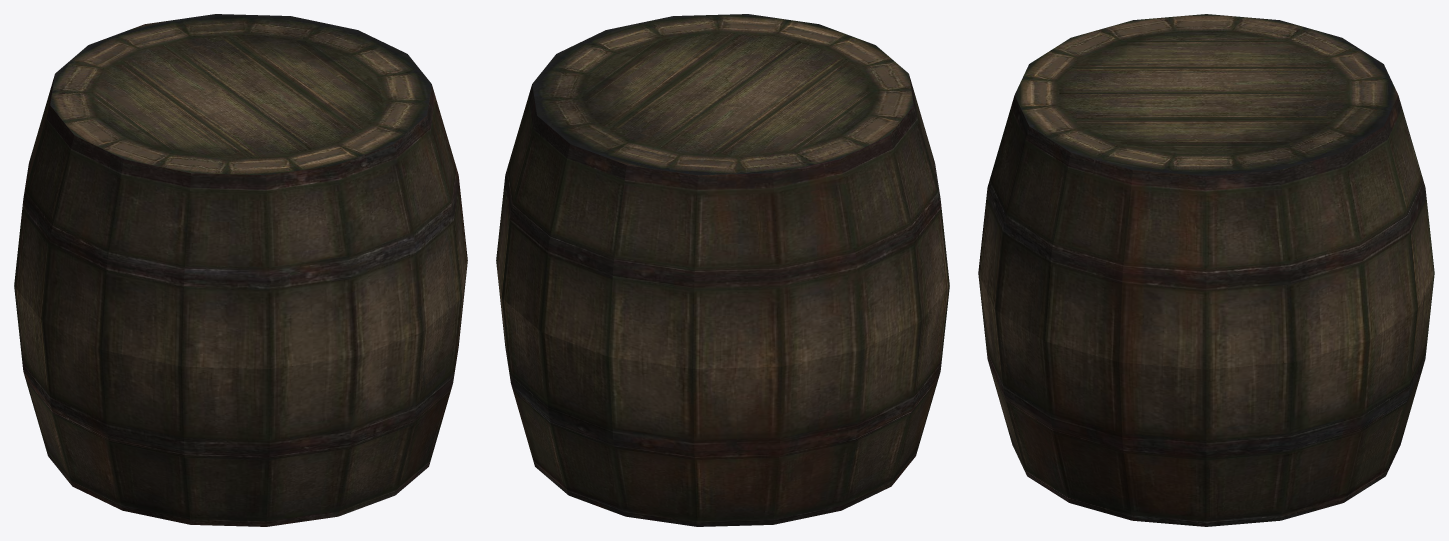
The model's file is barril.fbx.
3 renders of one model, left to right at view 1: azimuth 30°, elevation 25°; view 2: azimuth 150°, elevation 25°; view 3: azimuth 270°, elevation 25°, orthographic.
Parts seen in each view (by area): view 1: Cylinder; view 2: Cylinder; view 3: Cylinder.
Boxes of the visible parts, <box> form: Cylinder: <box>14,14,467,526</box>; Cylinder: <box>496,14,949,526</box>; Cylinder: <box>978,14,1434,526</box>.
Size of the model in its own units: 259 by 219 by 259.
Materials: 1 (1 with a texture image).
